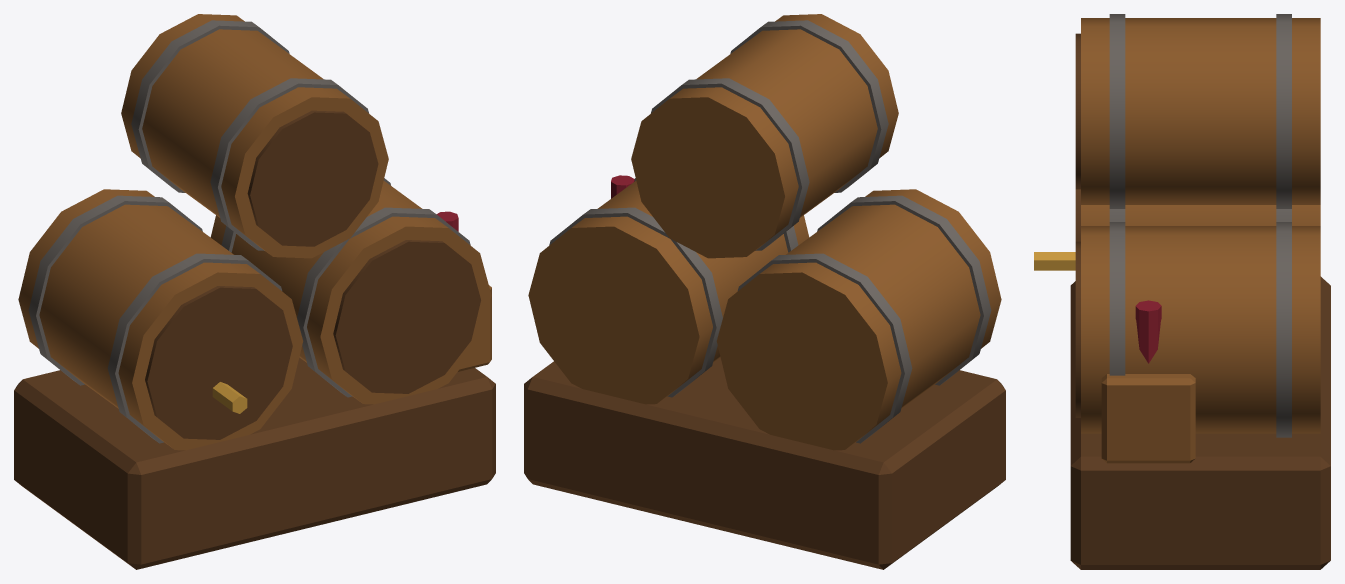
The model's file is PR_Station_Yillanmis_T1.fbx.
3 views of the same model, side by side, from view 1: azimuth 30°, elevation 25°; view 2: azimuth 150°, elevation 25°; view 3: azimuth 270°, elevation 25° (orthographic). The views are drawn at different scales.
Visible parts, largest first — view 1: PR_Station_Yillanmis_T1; view 2: PR_Station_Yillanmis_T1; view 3: PR_Station_Yillanmis_T1.
Boxes of the visible parts, x1,y1,x2,y2 form: PR_Station_Yillanmis_T1: (14, 14, 495, 569); PR_Station_Yillanmis_T1: (524, 14, 1005, 569); PR_Station_Yillanmis_T1: (1034, 14, 1330, 569).
Size of the model in its own units: 0.88 by 0.968 by 0.57.
Materials: 1 (1 with a texture image).
